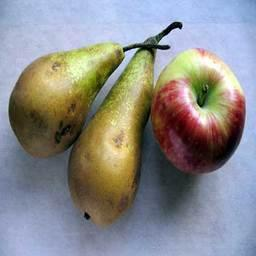apple: (150, 48, 245, 178)
